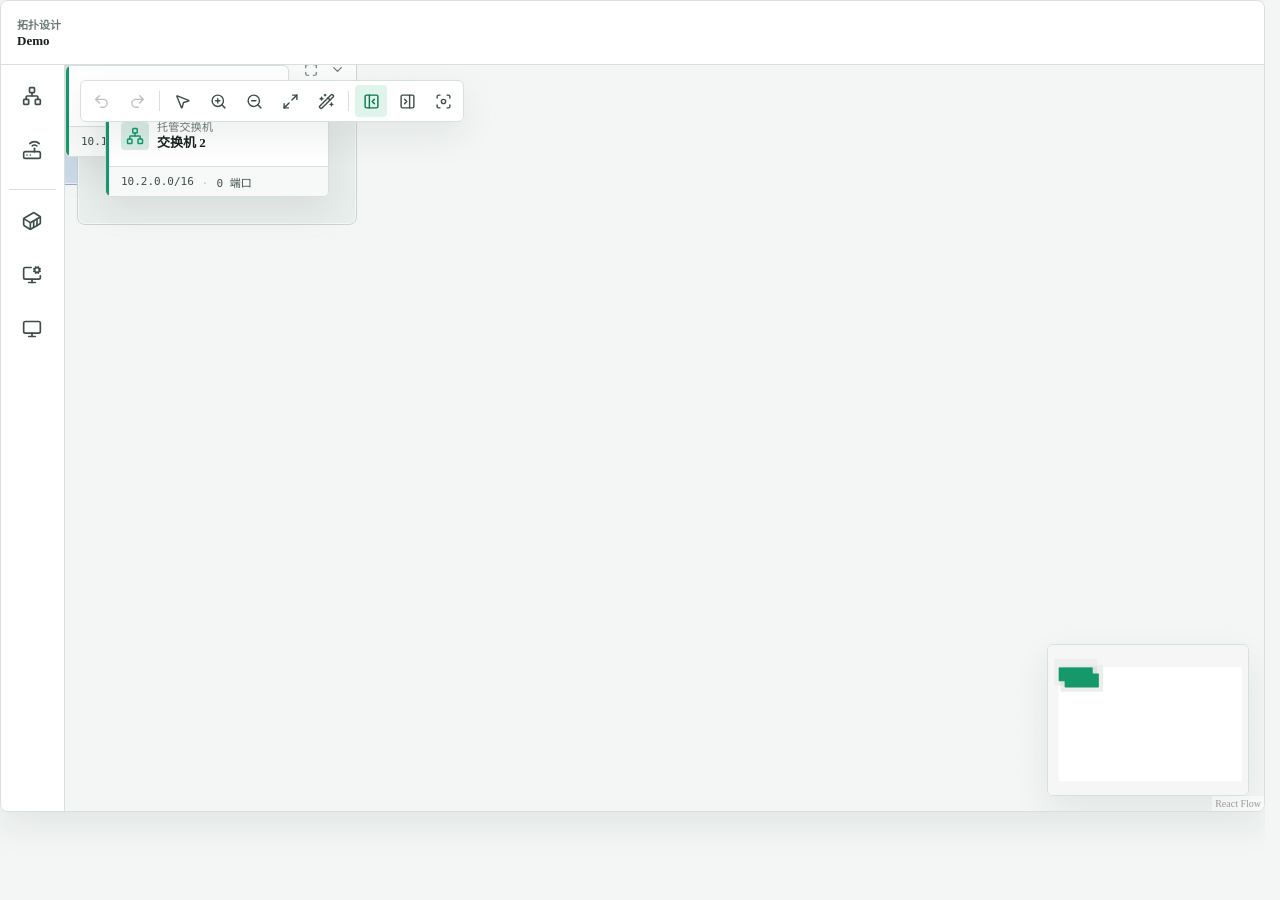
Test: TeamLabDesignPage › sends auto-layout through the document change persistence path
Click the button named "一键自动排版" at x=326, y=101, box [310,85,342,117]
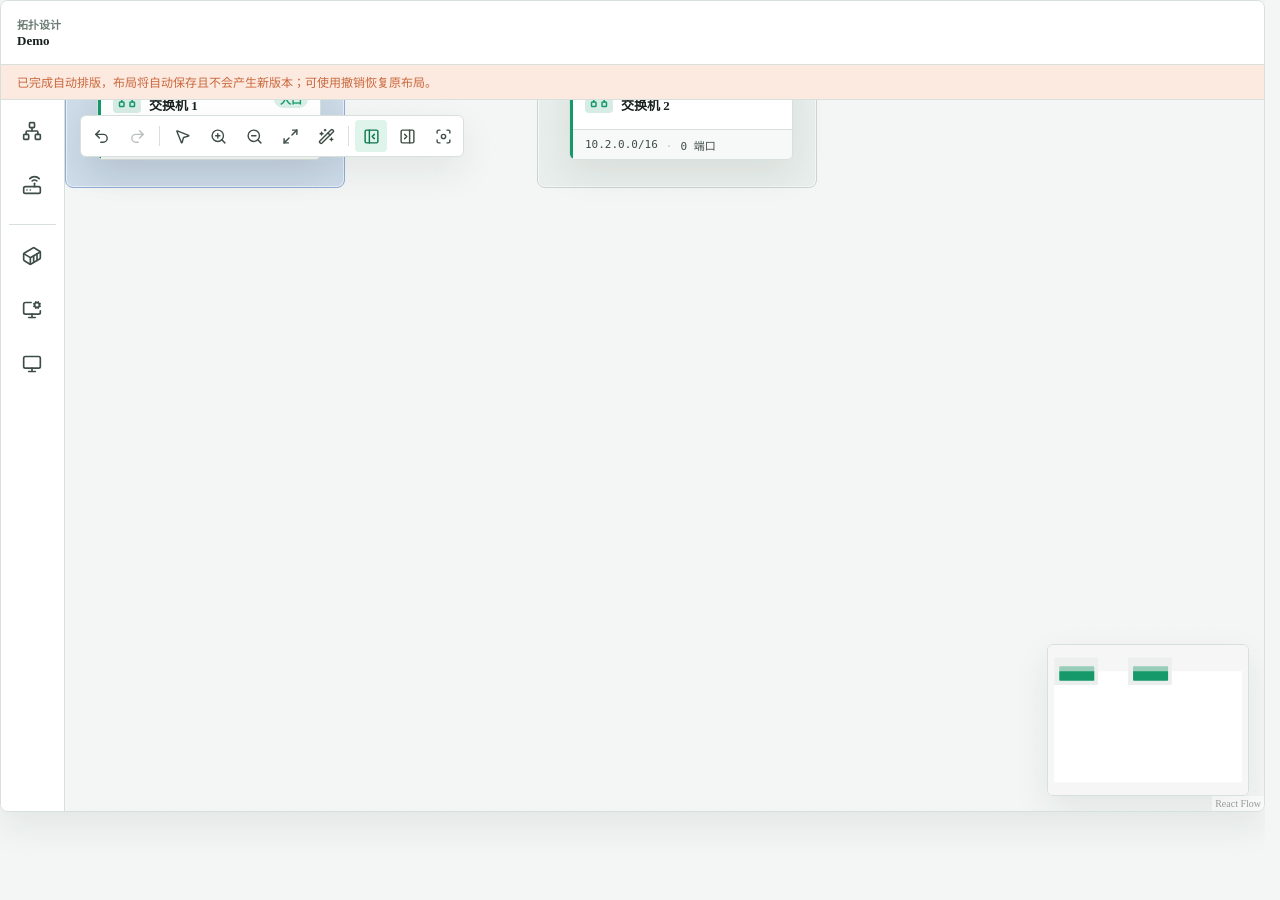
Check: the text "已完成自动排版，布局将自动保存且不会产生新版本；可使用撤销恢复原布局。" is shown, box [1,65,1264,100]
